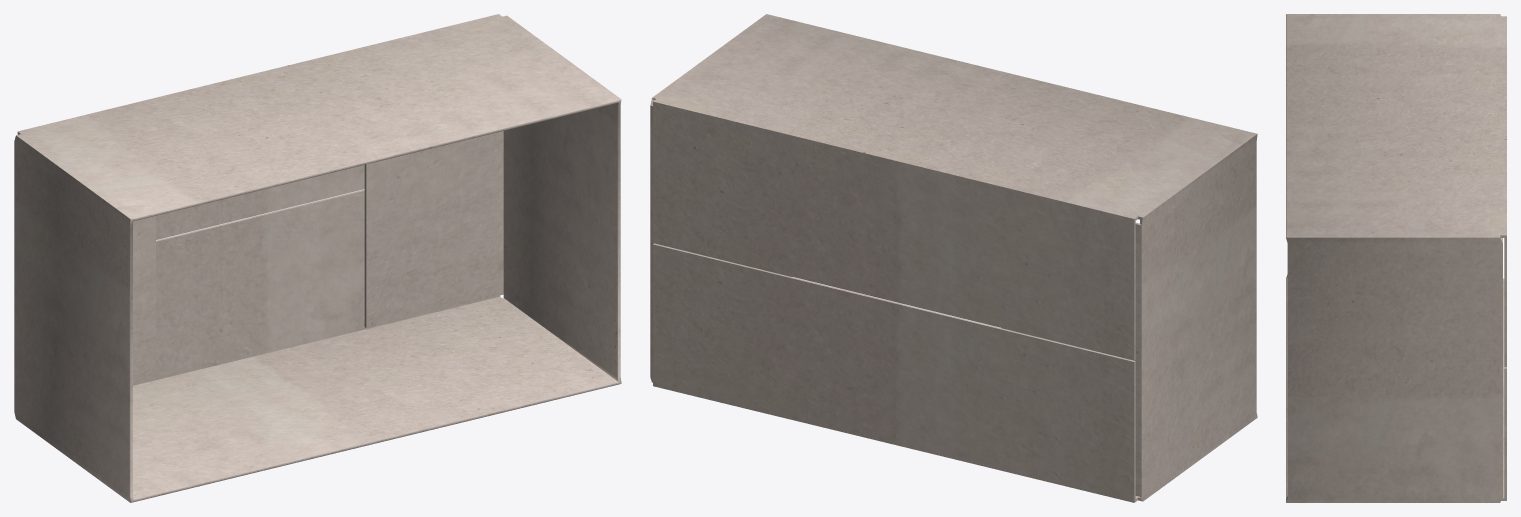
The model's file is MeshBox_23_0.obj.
The picture shows the model from 3 angles, left to right: view 1: azimuth 30°, elevation 25°; view 2: azimuth 150°, elevation 25°; view 3: azimuth 270°, elevation 25°; orthographic projection. The views are drawn at different scales.
Parts seen in each view (by area): view 1: Box_23; view 2: Box_23; view 3: Box_23.
Part boxes in pixels (<box>): Box_23: <box>14,14,621,502</box>; Box_23: <box>650,14,1257,502</box>; Box_23: <box>1286,14,1506,502</box>.
Size of the model in its own units: 0.4316 by 0.239 by 0.1802.
